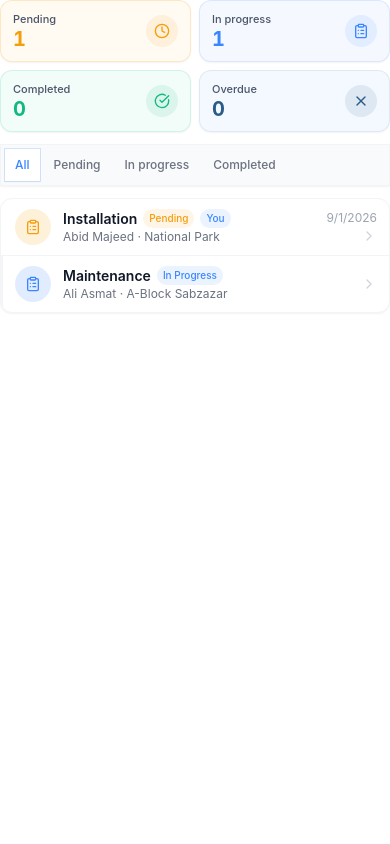
Test: PortalTasks › opens the detail sheet when a row is tapped
Click the text "Installation" at (100, 218), box left=63, top=208, right=137, bottom=228
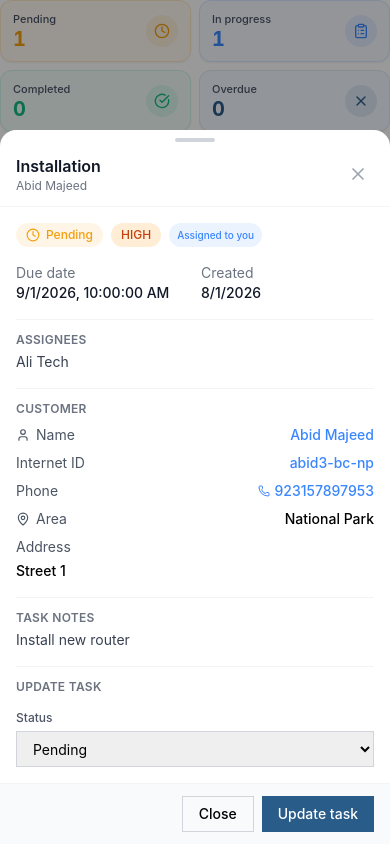
Expected: the text "Install new router" is shown, left=16, top=631, right=130, bottom=648
Expected: the link "923157897953" is shown, left=258, top=481, right=374, bottom=501
Expected: the text "Assigned to you" is shown, left=169, top=223, right=262, bottom=247
